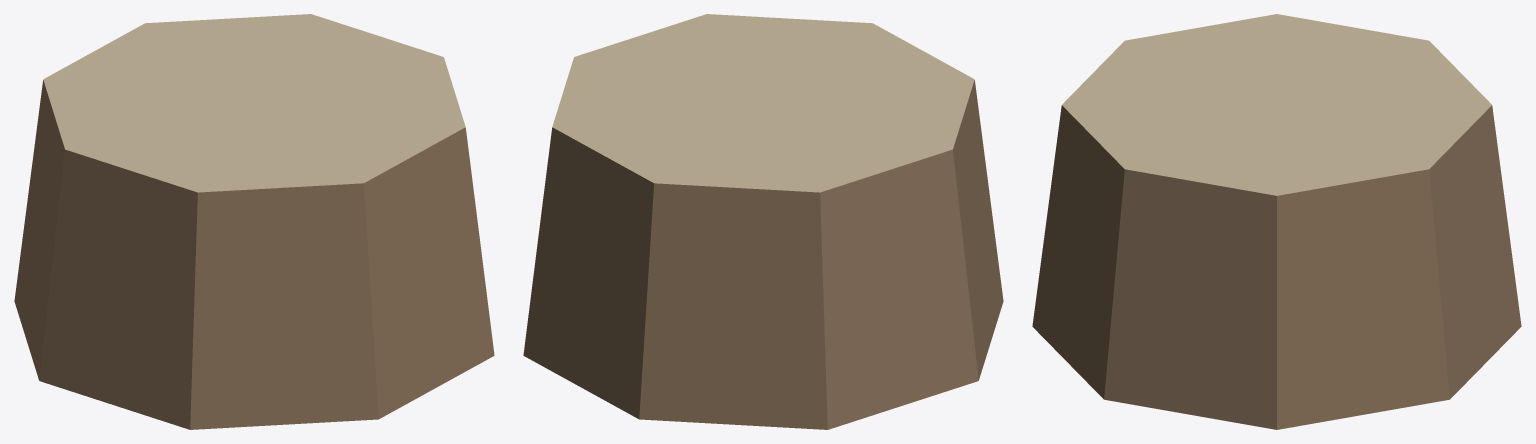
File: stump.glb
The picture shows the model from 3 angles, left to right: view 1: azimuth 30°, elevation 25°; view 2: azimuth 150°, elevation 25°; view 3: azimuth 270°, elevation 25°; orthographic projection.
Visible parts, largest first — view 1: stump; view 2: stump; view 3: stump.
Part boxes in pixels (<box>): stump: <box>14,14,494,429</box>; stump: <box>523,14,1003,429</box>; stump: <box>1032,14,1521,429</box>.
Size of the model in its own units: 2 by 1 by 2.
